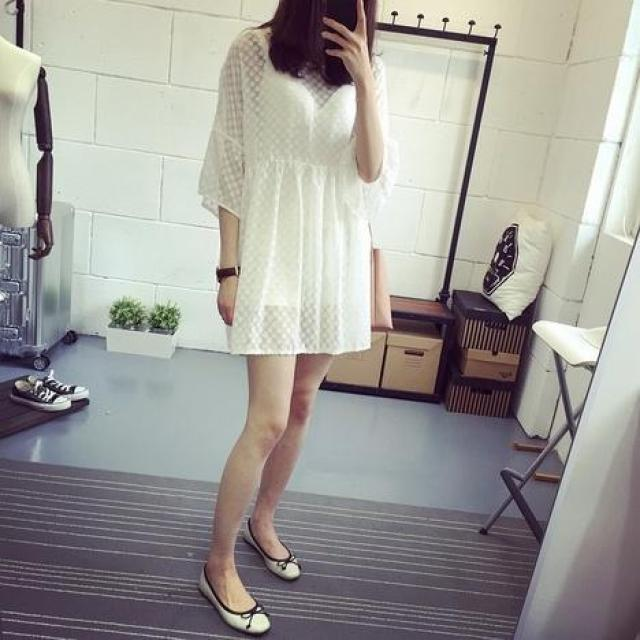long sleeve dress: (201, 27, 390, 354)
